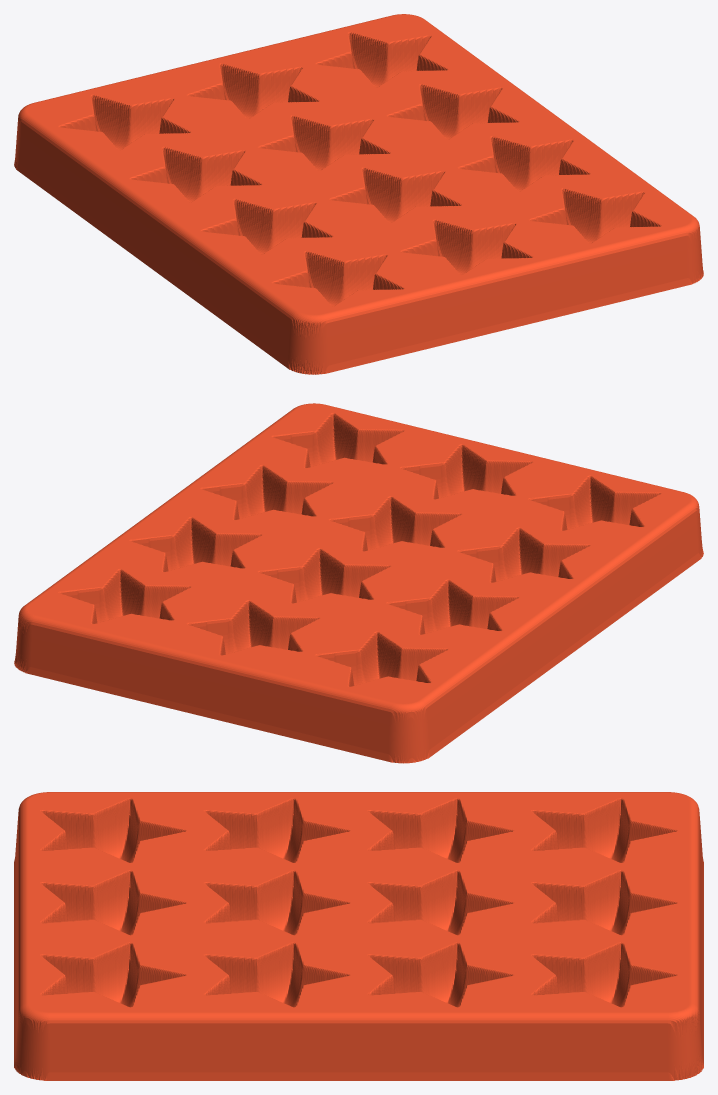
Rendered from mold.glb.
The picture shows the model from 3 angles, top to bottom: view 1: azimuth 30°, elevation 25°; view 2: azimuth 150°, elevation 25°; view 3: azimuth 270°, elevation 25°; orthographic projection. The views are drawn at different scales.
Visible parts, largest first — view 1: geometry_0; view 2: geometry_0; view 3: geometry_0.
Boxes of the visible parts, x1,y1,x2,y2 form: geometry_0: [14, 14, 703, 374]; geometry_0: [14, 403, 703, 763]; geometry_0: [14, 792, 703, 1080].
Size of the model in its own units: 0.1389 by 0.0175 by 0.175.
